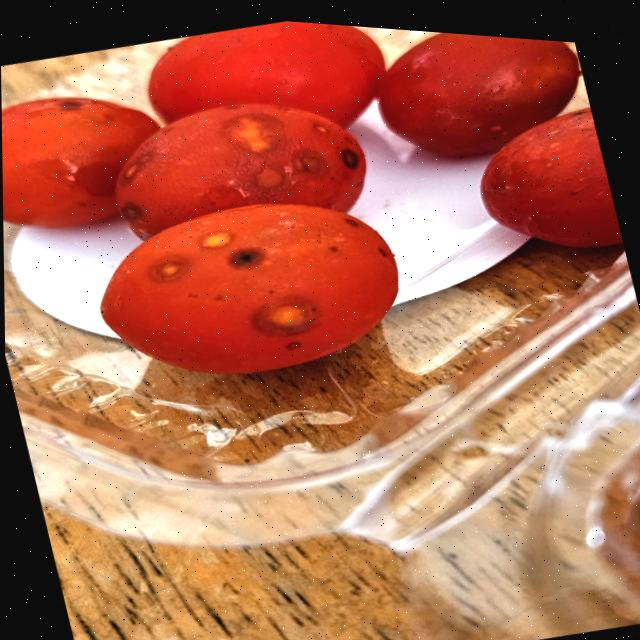rot_lvl1: (238, 294, 324, 340), (218, 111, 290, 156), (144, 255, 195, 282), (290, 147, 332, 178), (194, 228, 239, 253), (249, 164, 287, 192), (121, 160, 143, 184), (309, 122, 331, 136), (280, 340, 306, 351)
rot_lvl2: (221, 244, 276, 272), (120, 200, 146, 225), (54, 99, 88, 114), (338, 148, 359, 171), (342, 217, 361, 230)
